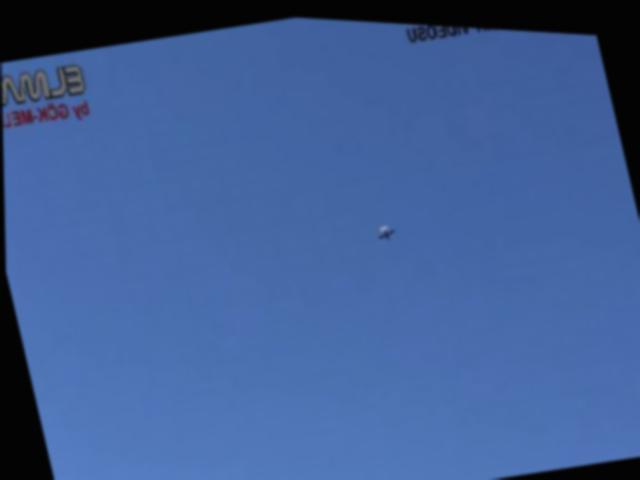uav: (372, 216, 399, 240)
